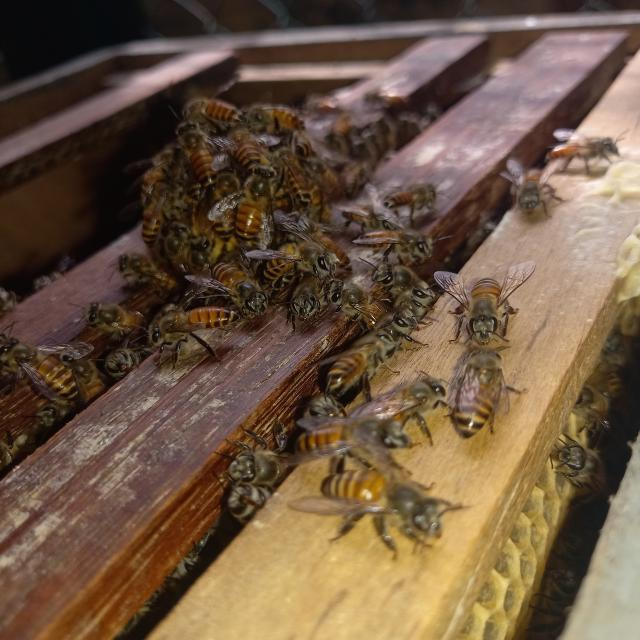honeybee: (326, 470, 444, 544), (138, 303, 238, 361), (0, 334, 85, 402), (302, 413, 400, 471), (321, 323, 403, 392), (443, 268, 515, 342), (356, 379, 455, 432), (454, 350, 511, 441), (226, 165, 272, 248), (173, 119, 222, 194), (554, 434, 611, 498), (297, 214, 353, 277), (263, 244, 338, 291), (268, 149, 314, 220), (288, 274, 355, 322), (222, 445, 299, 486), (113, 254, 177, 302), (361, 233, 438, 271), (541, 128, 616, 166), (212, 163, 244, 240), (181, 94, 242, 134), (506, 160, 551, 214), (225, 485, 279, 530), (374, 182, 443, 217), (370, 267, 424, 311), (142, 179, 178, 242), (84, 302, 141, 338), (242, 108, 304, 141), (370, 301, 419, 342), (224, 126, 261, 180), (72, 356, 114, 401), (344, 205, 392, 238), (579, 384, 608, 432), (309, 157, 340, 200), (164, 224, 193, 269), (181, 236, 214, 275), (362, 85, 416, 108), (592, 364, 622, 405), (343, 160, 370, 200), (403, 284, 437, 314), (303, 92, 343, 116), (33, 405, 70, 430), (326, 115, 354, 148), (107, 348, 140, 374), (287, 132, 307, 161)
